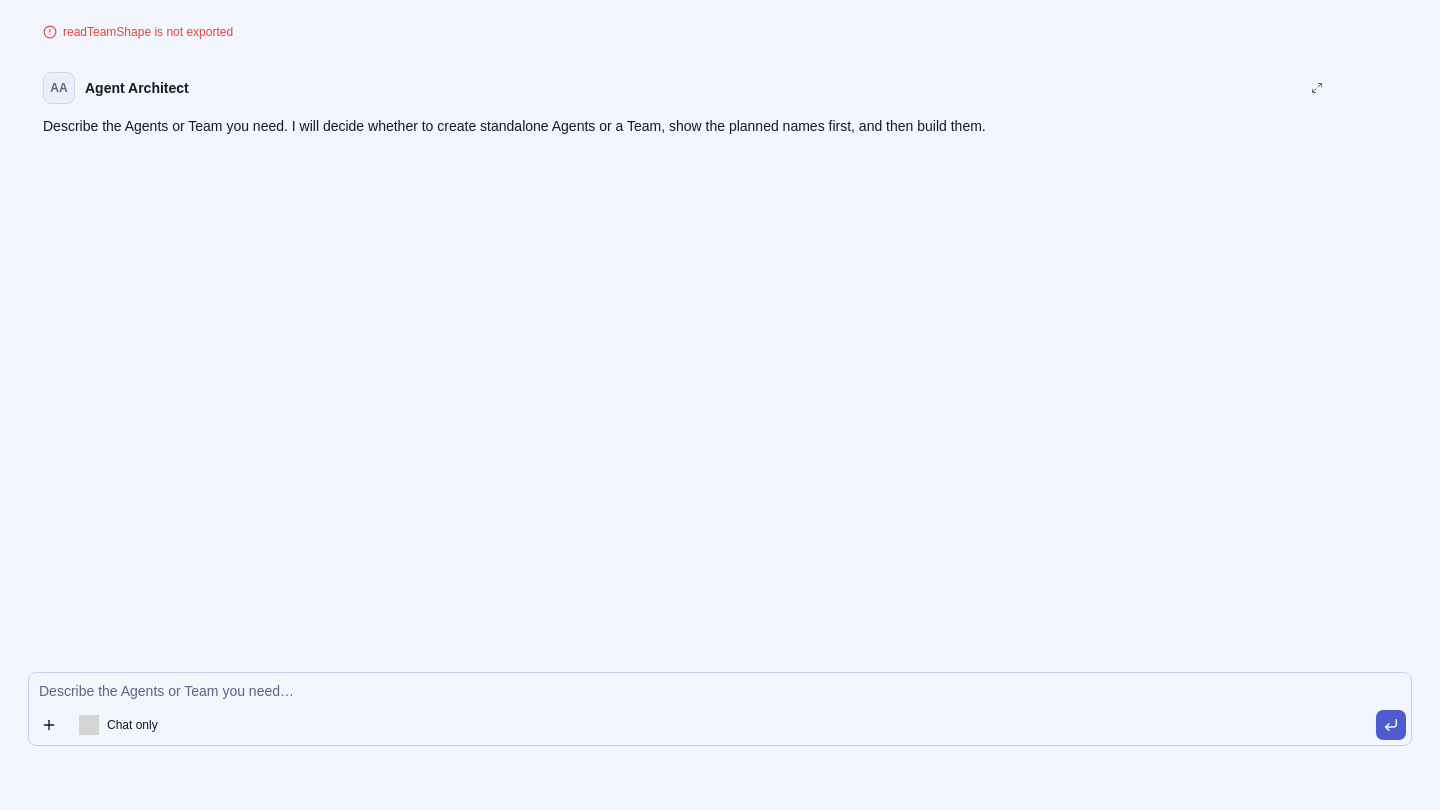
Scenario: Create authoring model provenance › keeps one reader when the retained window moves past it
The width and height of the screenshot is (1440, 810).
Expected: the button with aria-label "Agent Architect model" reads "Chat only", [71,709,279,741]
In the text box: point(720, 709) [29,673,1411,745], type "Create three lawyers"
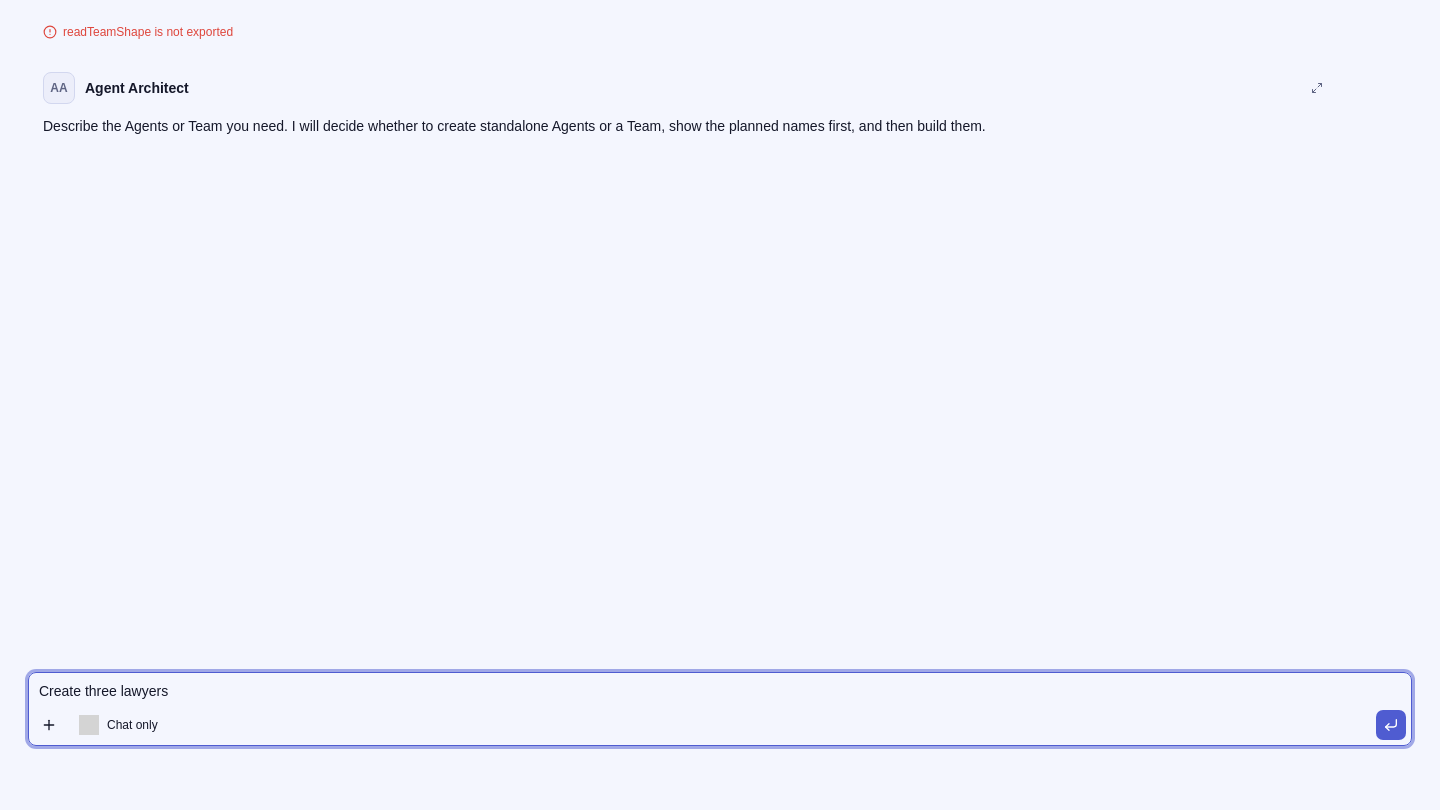
Click the button named "Submit": point(1391, 725) [1375,709,1407,741]
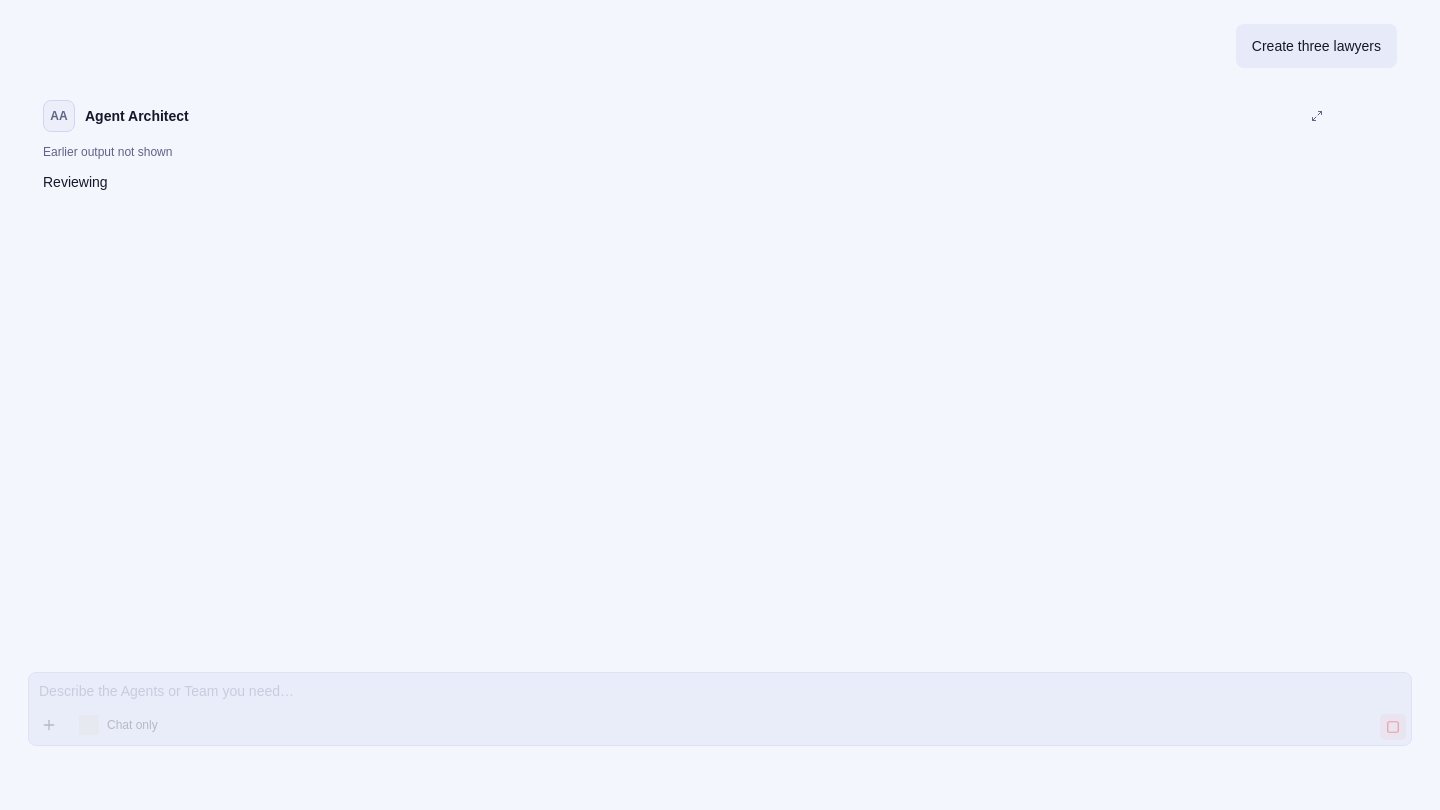
Result: the text "Reviewing" is shown at [43,174,108,190]
